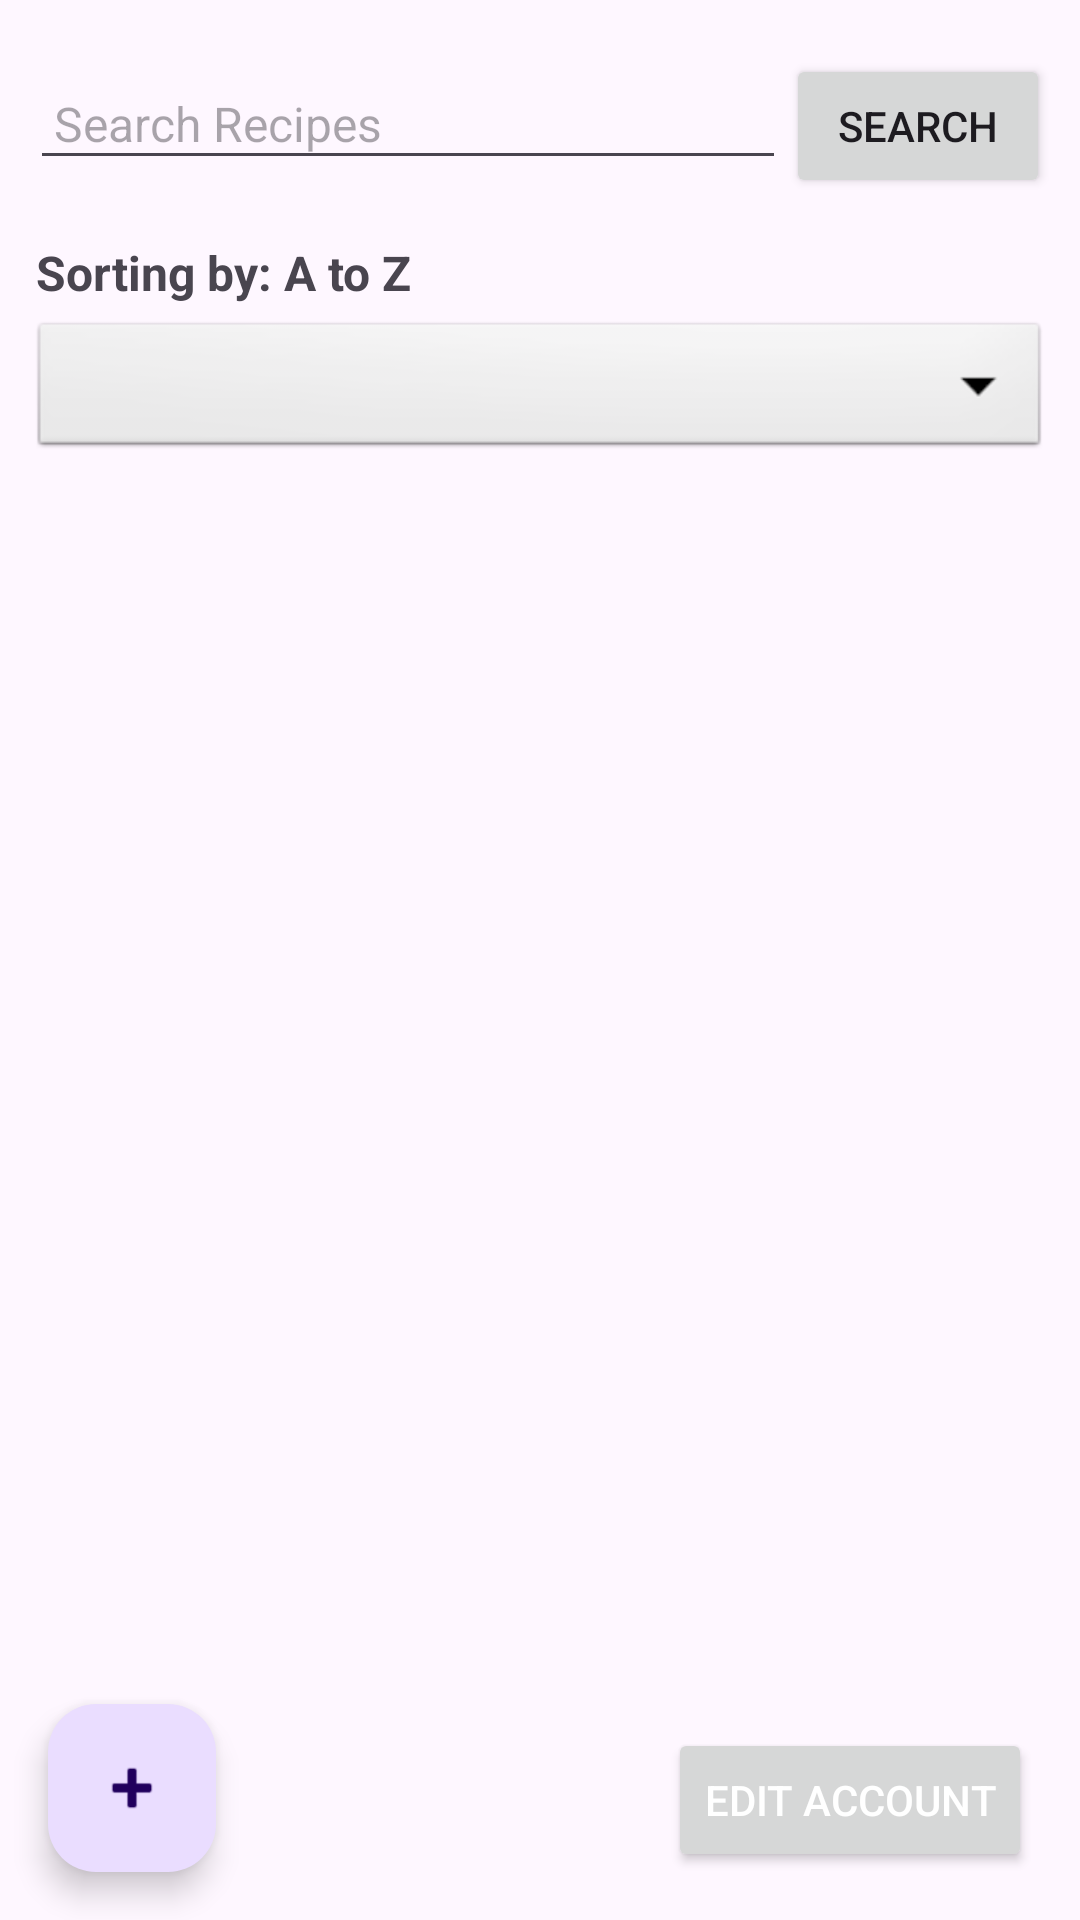

Named icons in this screenshot (1080px×1920px) and their centers, (x=x, y=y):
Add Recipe: (x=132, y=1788)
